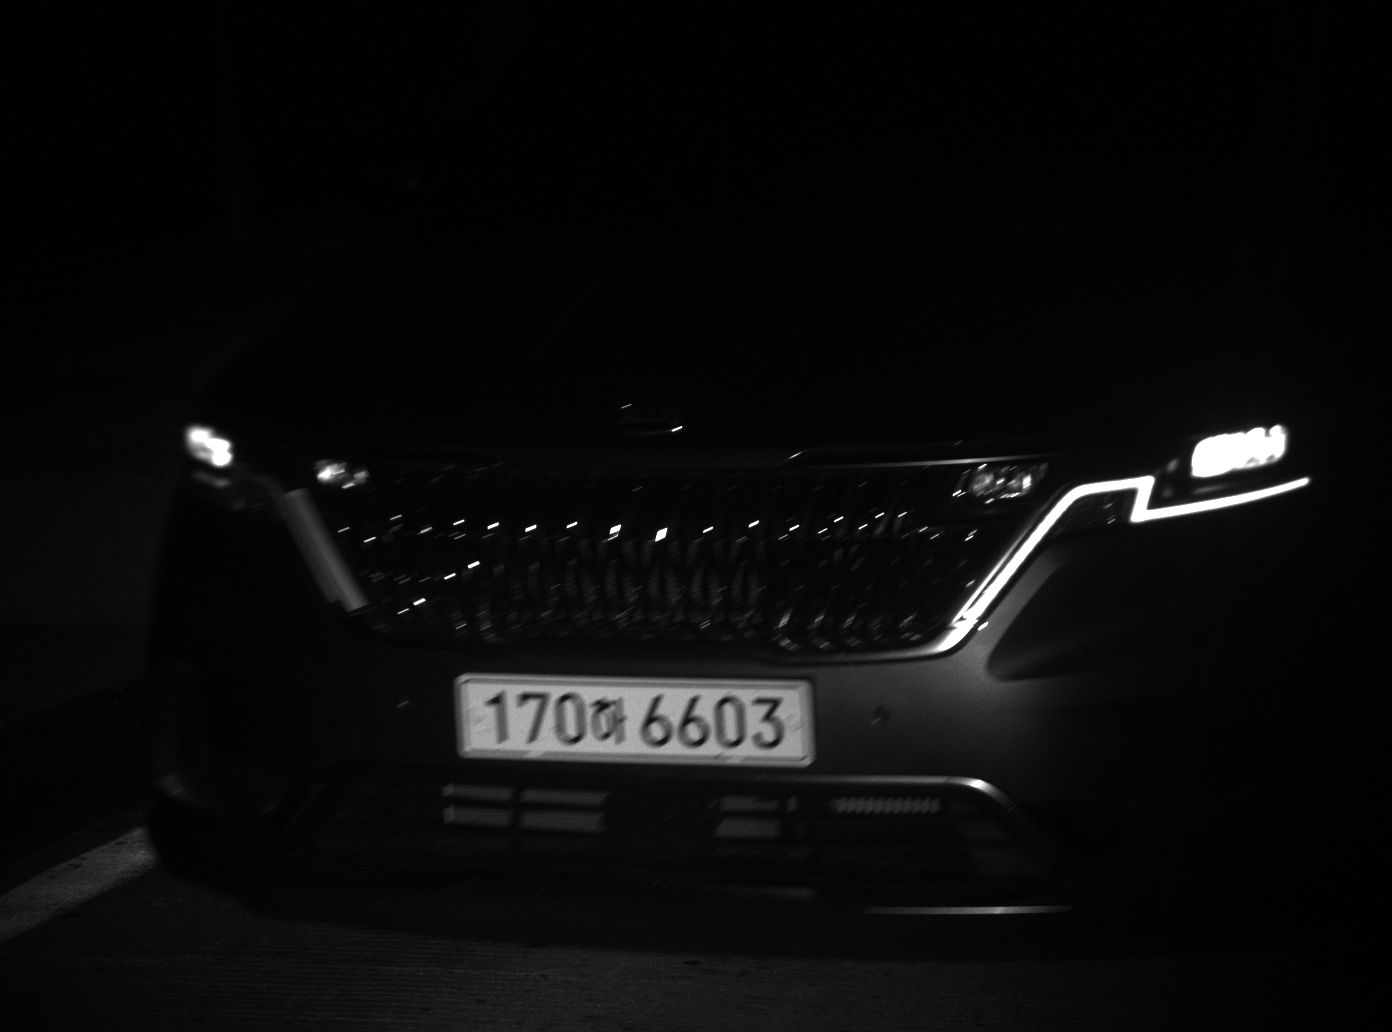car: (150, 1, 1392, 952)
plate: (399, 672, 813, 765)
